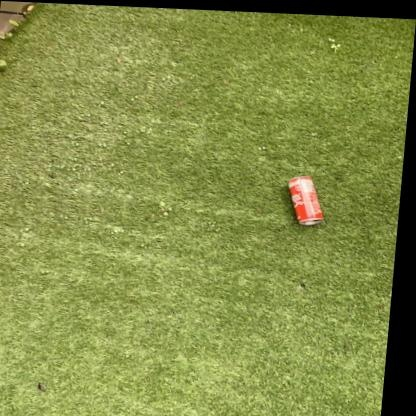trash: (288, 176, 323, 224)
